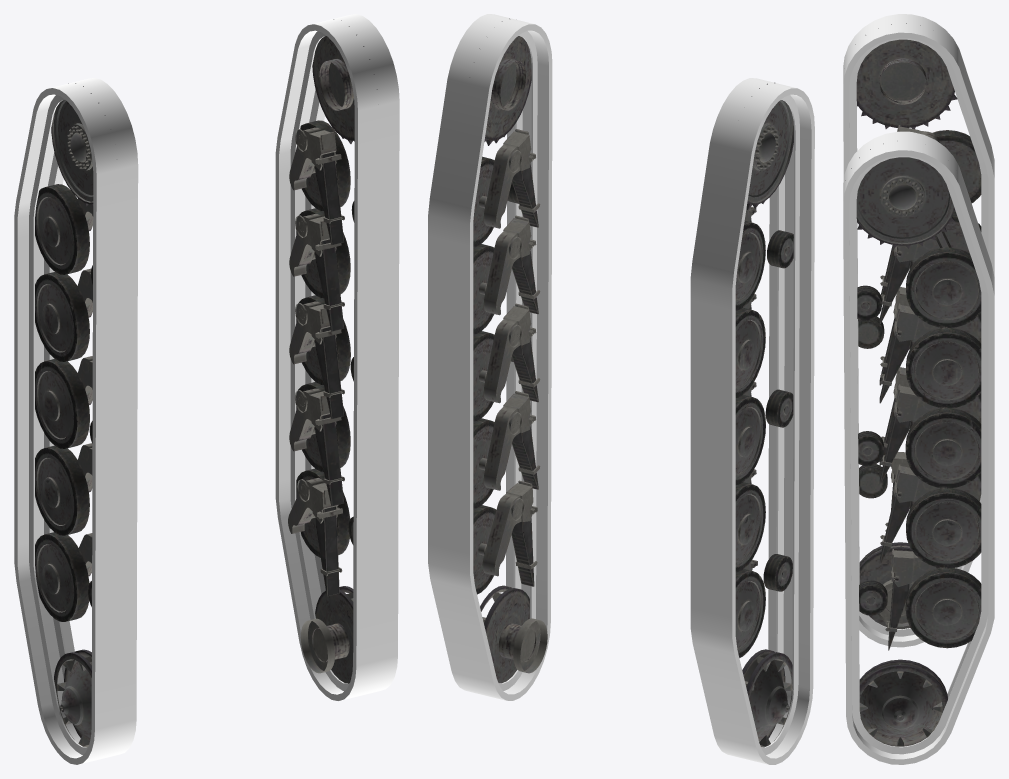
File: Chassis.glb
3 renders of one model, left to right at view 1: azimuth 30°, elevation 25°; view 2: azimuth 150°, elevation 25°; view 3: azimuth 270°, elevation 25°, orthographic. The views are drawn at different scales.
Visible parts, largest first — view 1: set_2_group_0, set_3_group_0, set_0_group_0, set_1_group_0; view 2: set_2_group_0, set_3_group_0, set_0_group_0, set_1_group_0; view 3: set_0_group_0, set_3_group_0, set_1_group_0, set_2_group_0.
Boxes of the visible parts, <box> form: set_2_group_0: <box>14,78,138,764</box>; set_3_group_0: <box>275,14,399,700</box>; set_0_group_0: <box>288,19,377,683</box>; set_1_group_0: <box>35,83,110,747</box>; set_2_group_0: <box>690,78,814,764</box>; set_3_group_0: <box>428,14,552,700</box>; set_0_group_0: <box>469,18,547,683</box>; set_1_group_0: <box>735,82,793,747</box>; set_0_group_0: <box>845,143,981,746</box>; set_3_group_0: <box>843,131,994,764</box>; set_1_group_0: <box>855,23,981,629</box>; set_2_group_0: <box>843,14,994,647</box>.
Size of the model in its own units: 2.26 by 4.6 by 1.03.
Materials: 4 (2 with a texture image).
